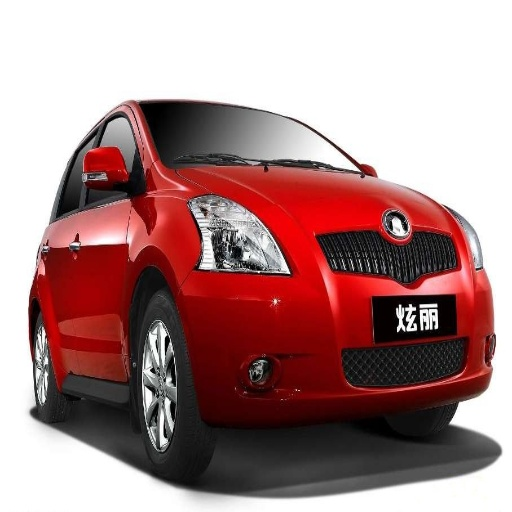back_right_door: (48, 113, 111, 350)
front_bumper: (181, 230, 483, 422)
front_glass: (145, 102, 291, 164)
front_right_door: (65, 106, 145, 344)
front_right_light: (188, 195, 290, 274)
tailgate: (341, 242, 454, 285)
trunk: (283, 184, 435, 246)
